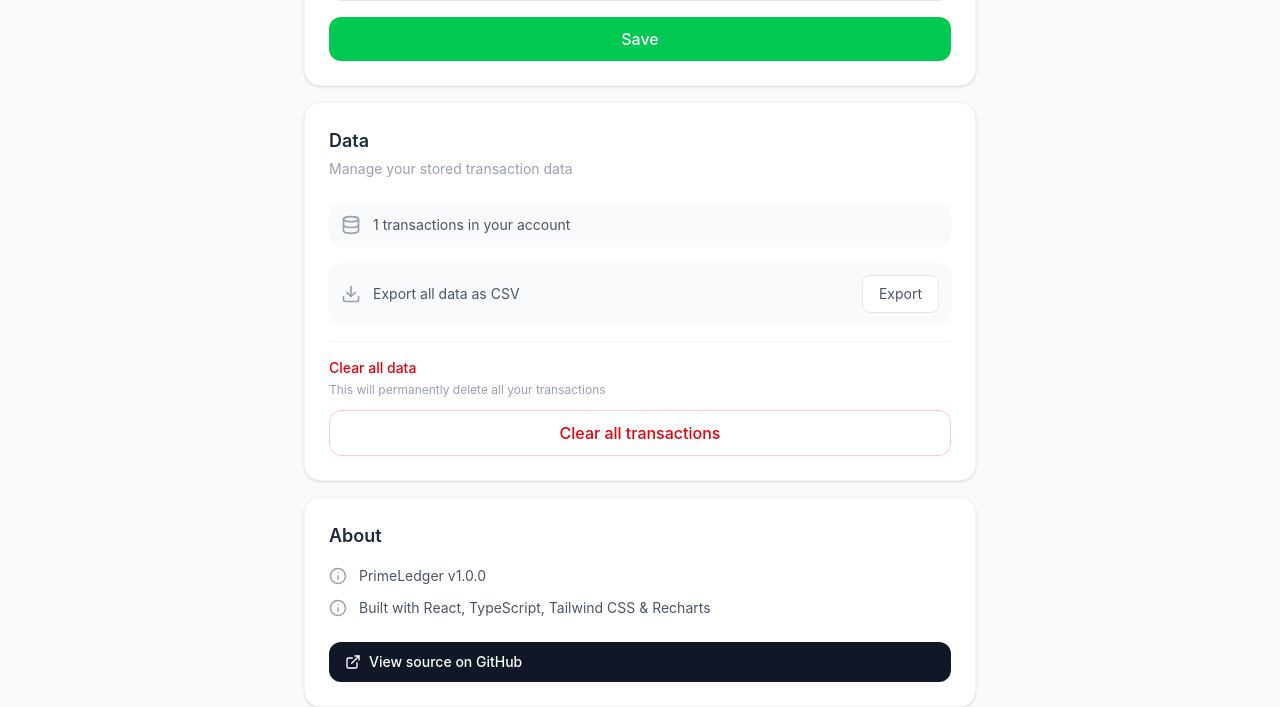
Test case: SettingsContent destructive confirmation (D-10) › uses an in-app dialog rather than the native window.confirm
(page scrolled)
What coordinates should you click on to do the following:
click the button "Clear all transactions"
I would click on:
 (640, 433)
Its box is [329, 410, 951, 456].
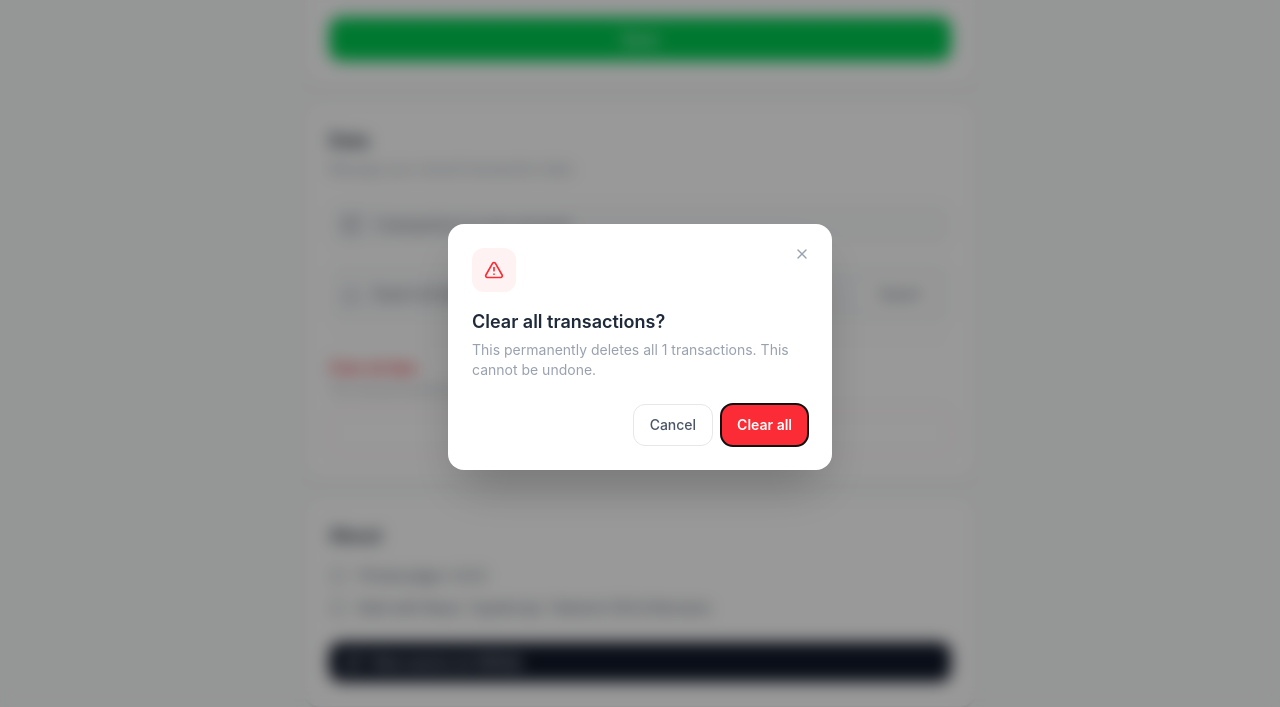
Expected: the dialog is shown, [448, 224, 832, 470]
